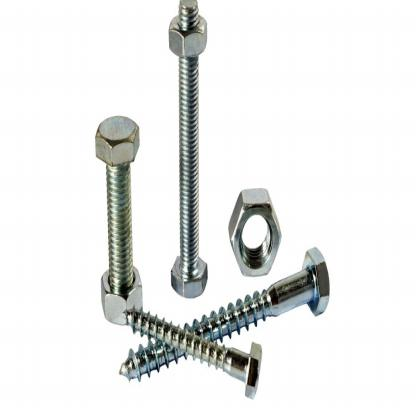FOD: (107, 246, 338, 392), (166, 11, 212, 300), (87, 109, 145, 321), (224, 186, 283, 283)
